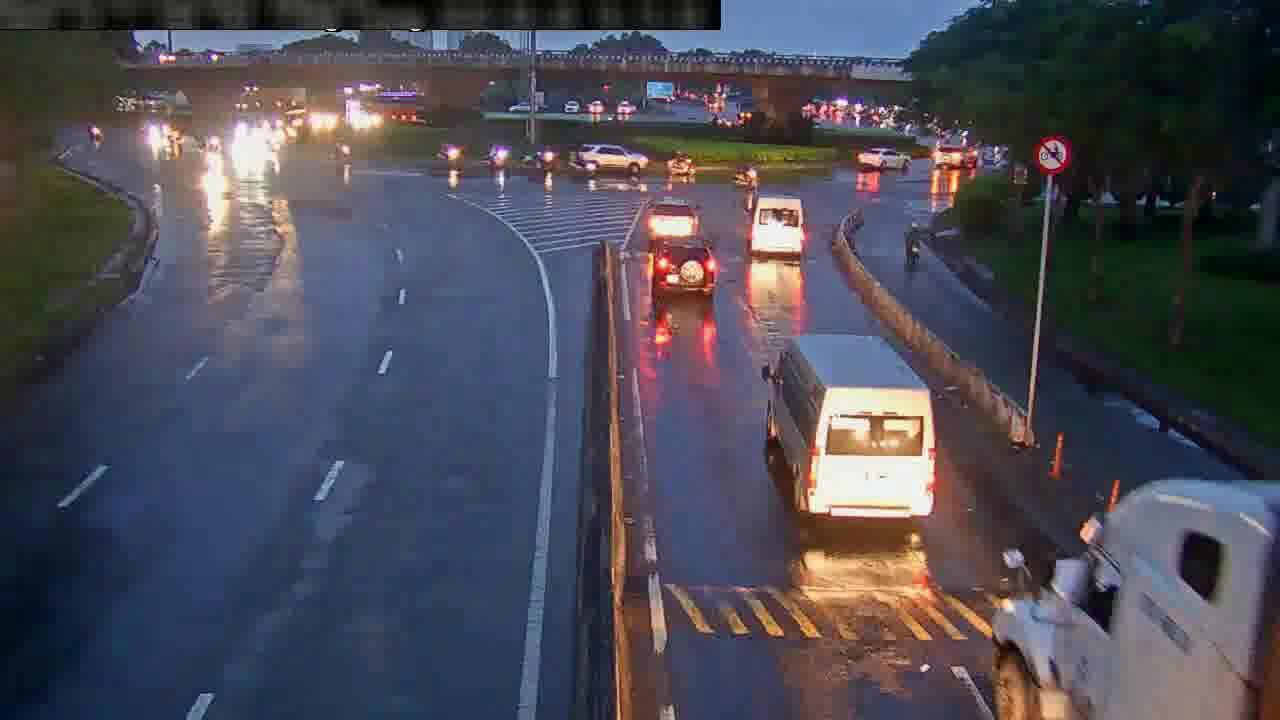14: (759, 332, 939, 526), (744, 188, 806, 263)
8: (988, 474, 1280, 720)
container: (649, 235, 717, 303), (572, 143, 650, 179), (641, 194, 703, 239), (854, 141, 912, 173)
motorbike: (664, 146, 695, 178), (431, 139, 467, 166), (484, 144, 512, 174)
